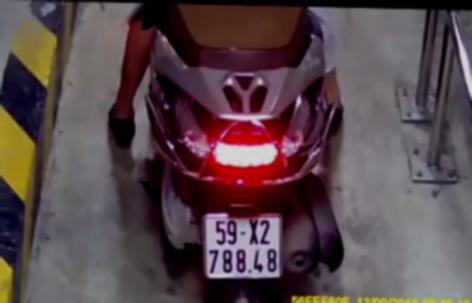License_Plate: (196, 208, 287, 286)
